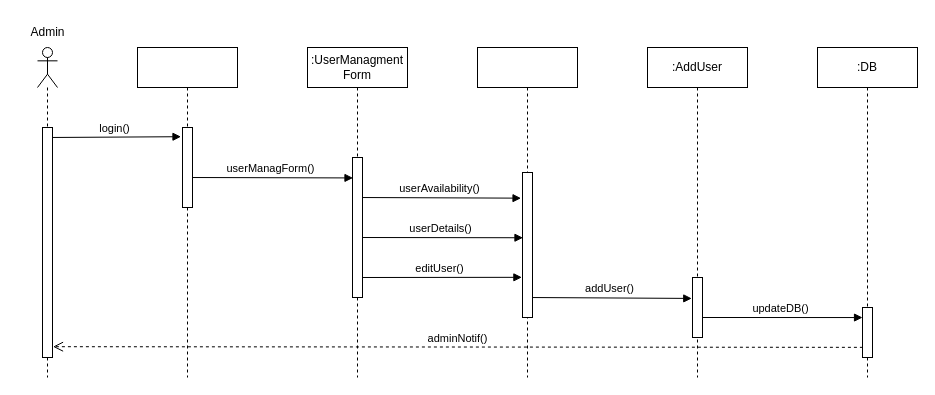
The diagram is 935 pixels wide and 395 high, and some of its shapes have lost their labels. Here are the shapes that lost their labels. From the top down, the centre of each, then its label:
point 187,212: :Login
point 527,212: :UserSettings
